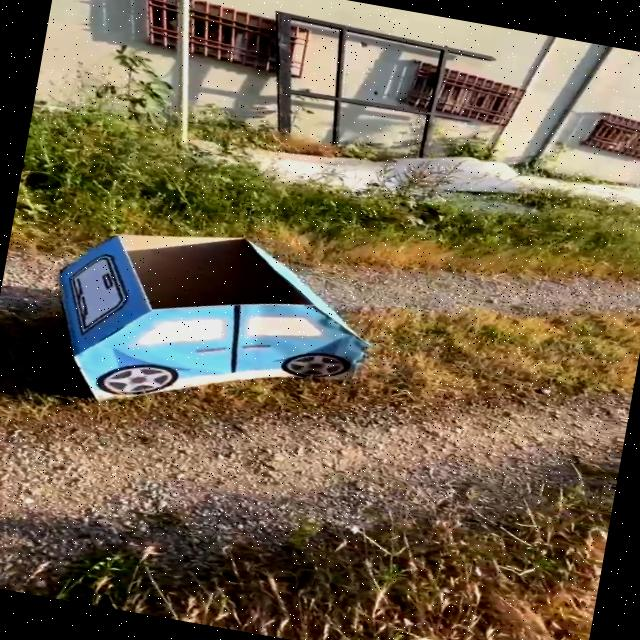blue_car: (0, 182, 420, 467)
